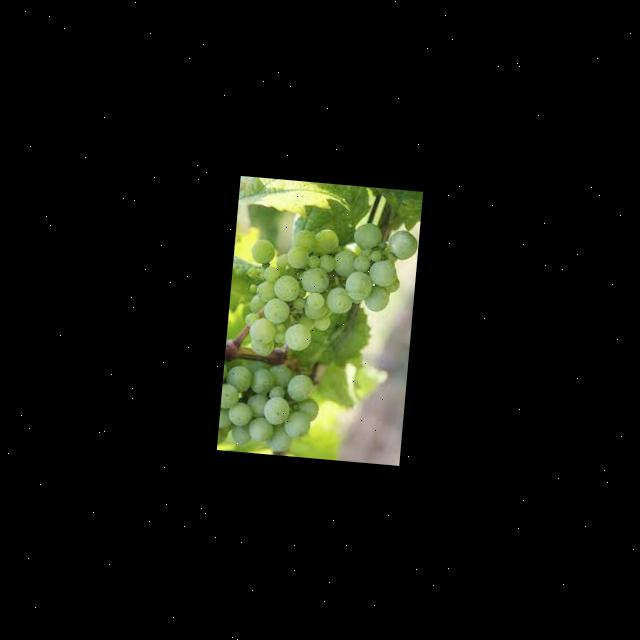grape: (239, 211, 418, 367), (218, 356, 322, 454)
